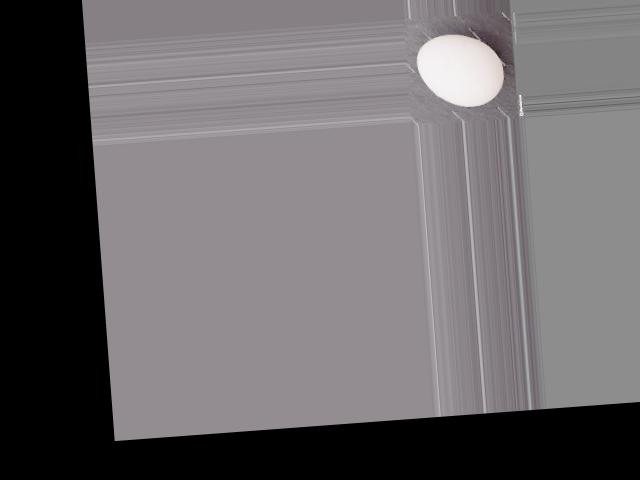egg: (415, 30, 506, 109)
